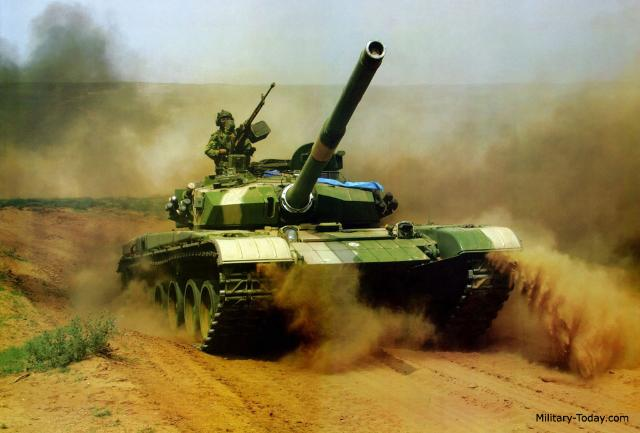other: (205, 103, 235, 165)
tank: (124, 155, 508, 350)
